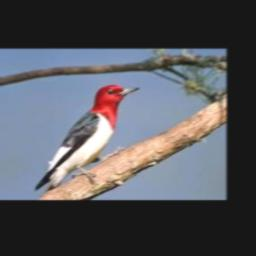Woodpecker: (35, 84, 139, 196)
